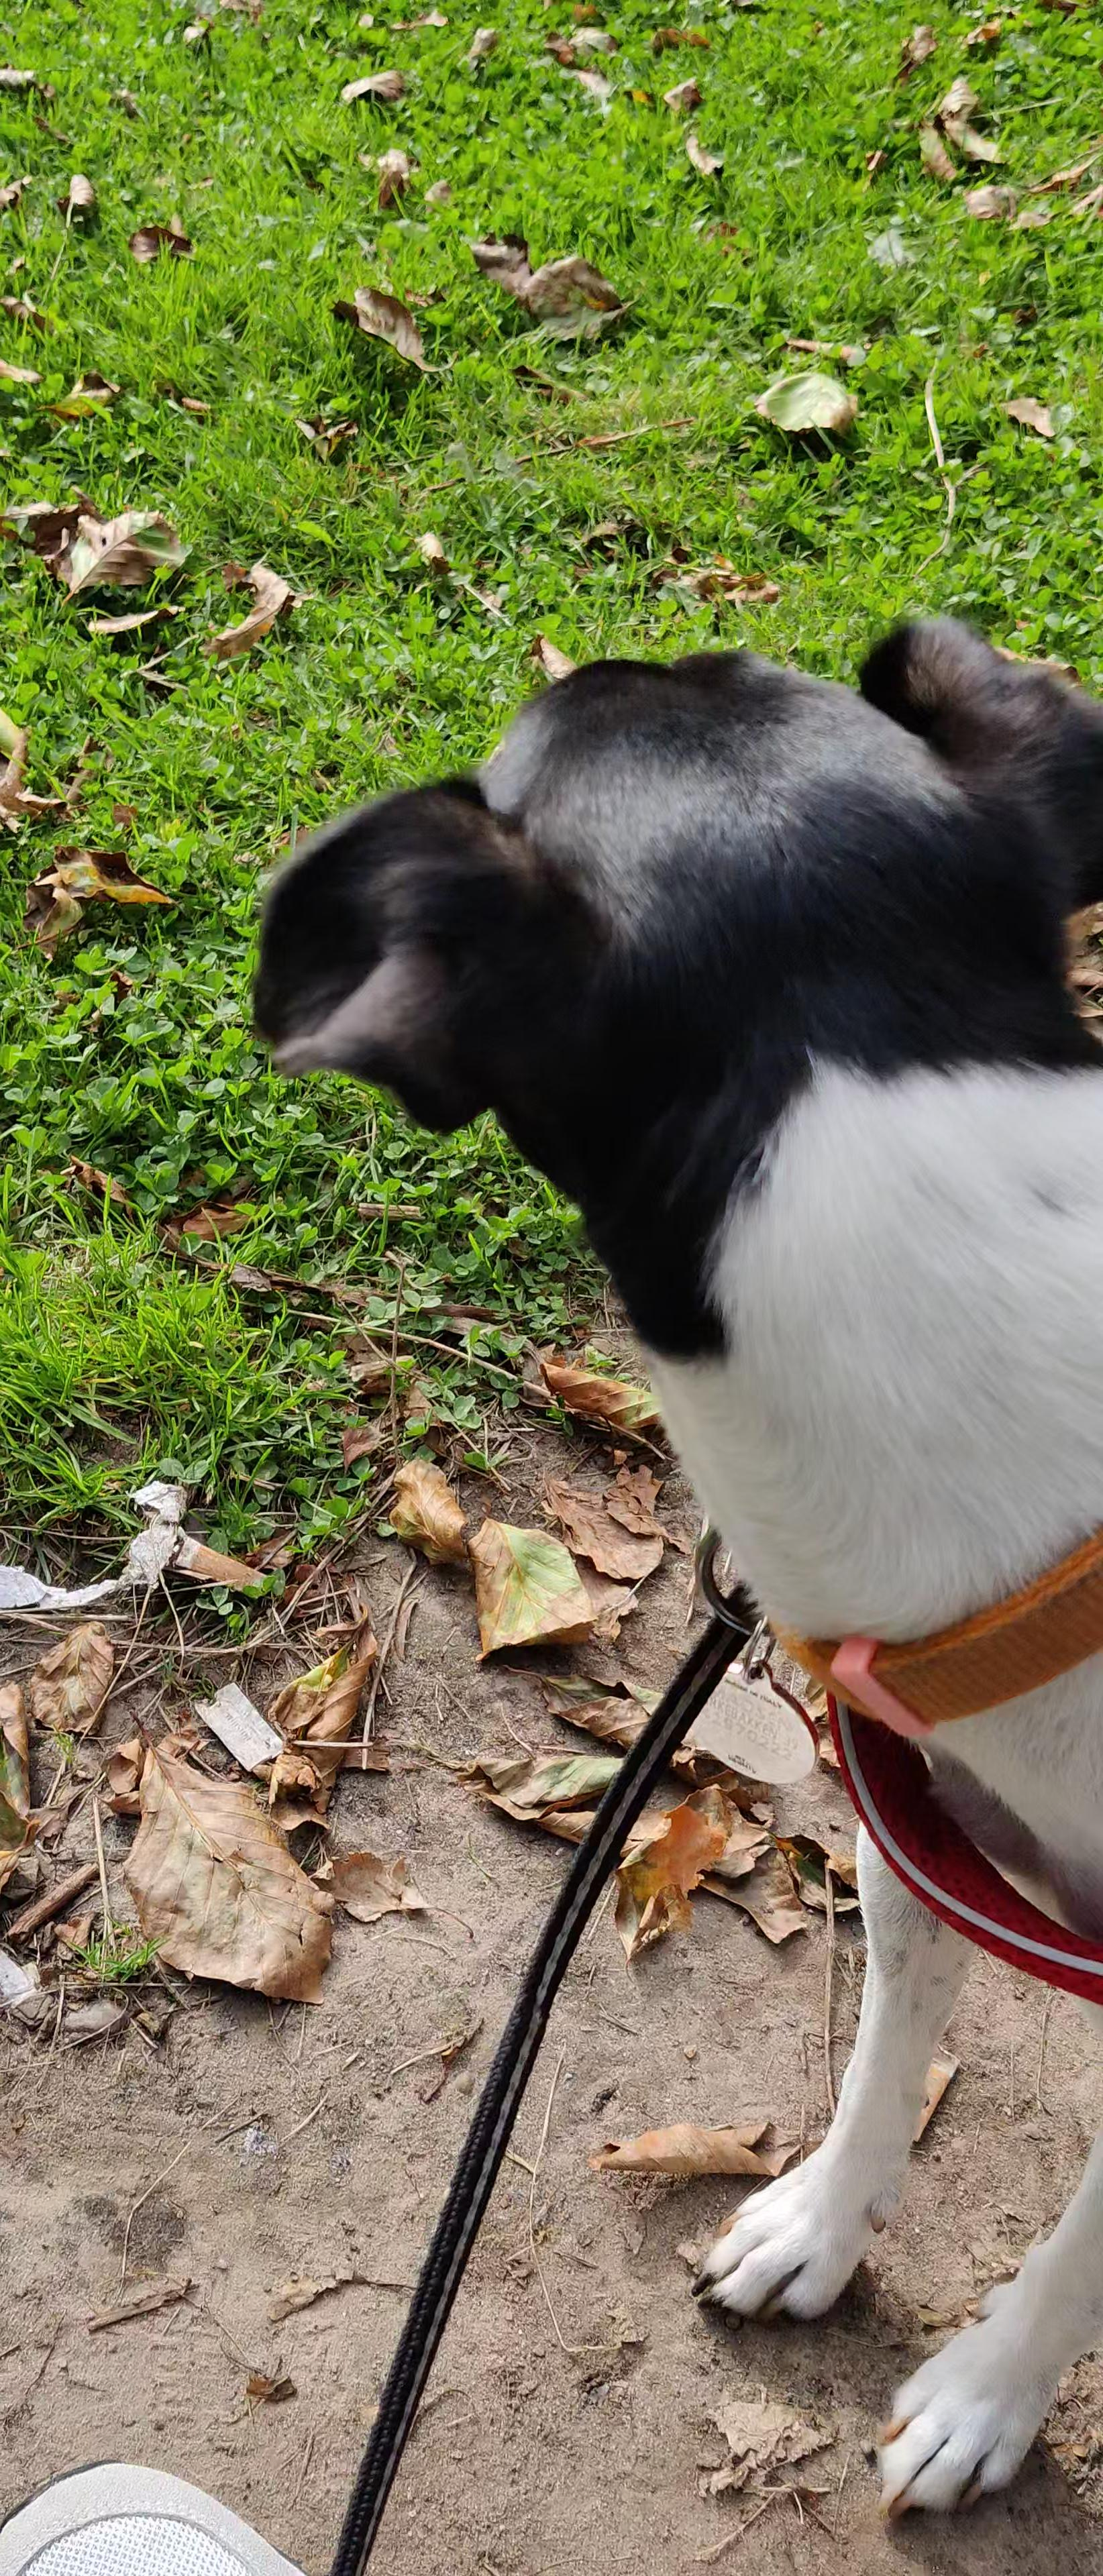Dog: (212, 550, 1103, 2532)
